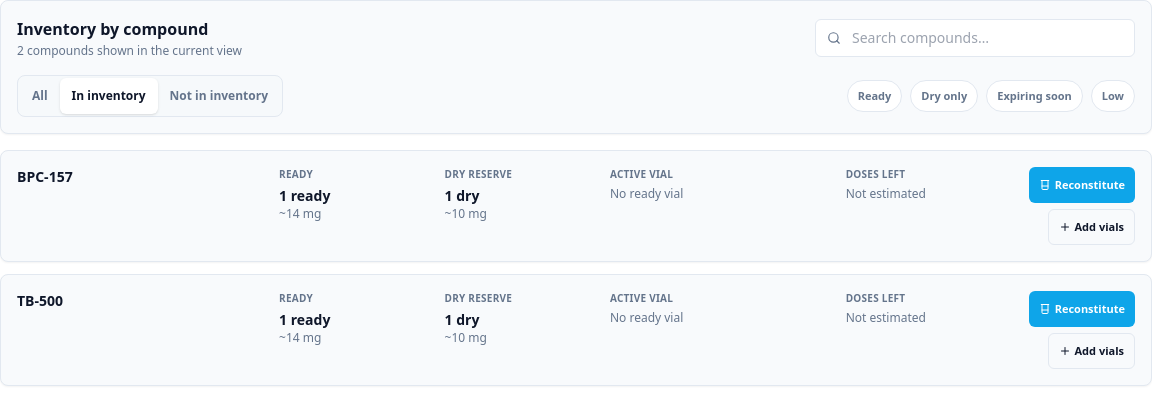
Test case: CompoundInventoryView › client-side search filters rows by name
The image size is (1152, 403).
Type "tb" into the field with placeholder "Search compounds…" at (975, 38), box [815, 19, 1135, 57]
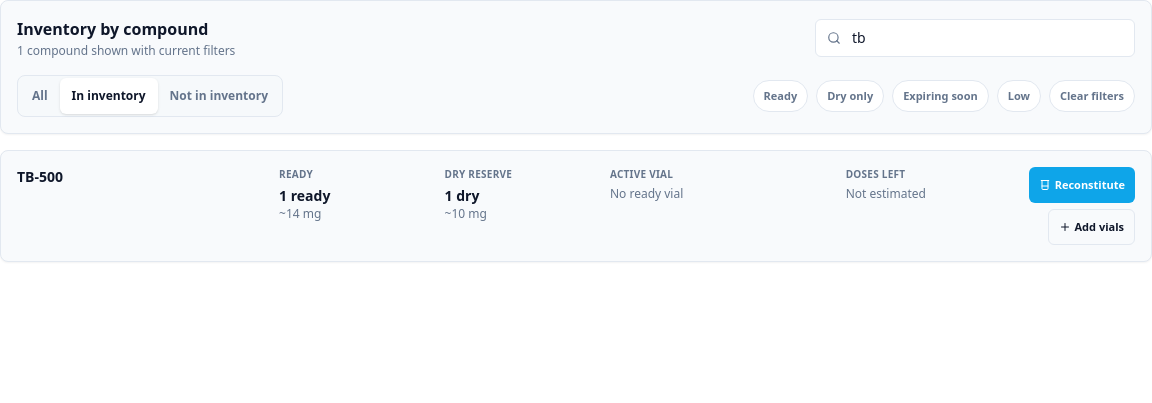
Check: the heading "TB-500" is shown, box [17, 167, 63, 186]
Check: the link "BPC-157" is gone
